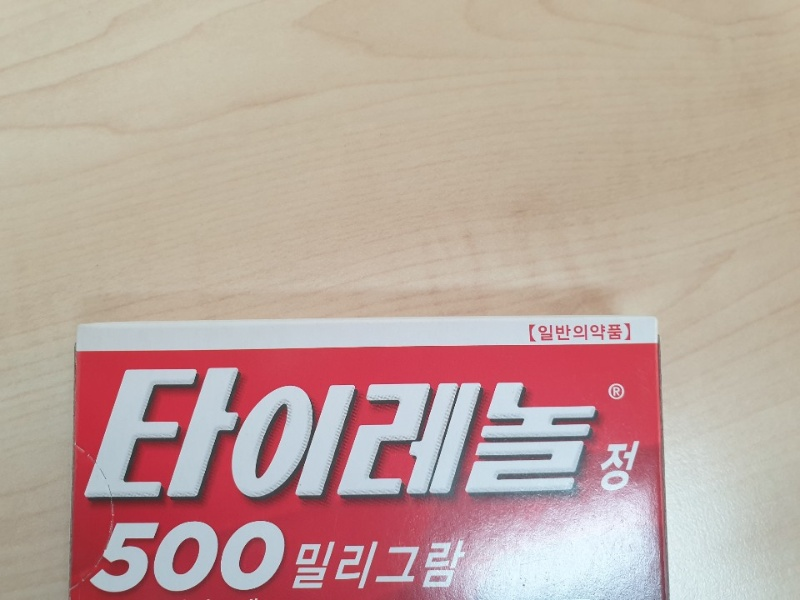tylenol: (75, 318, 659, 600)
